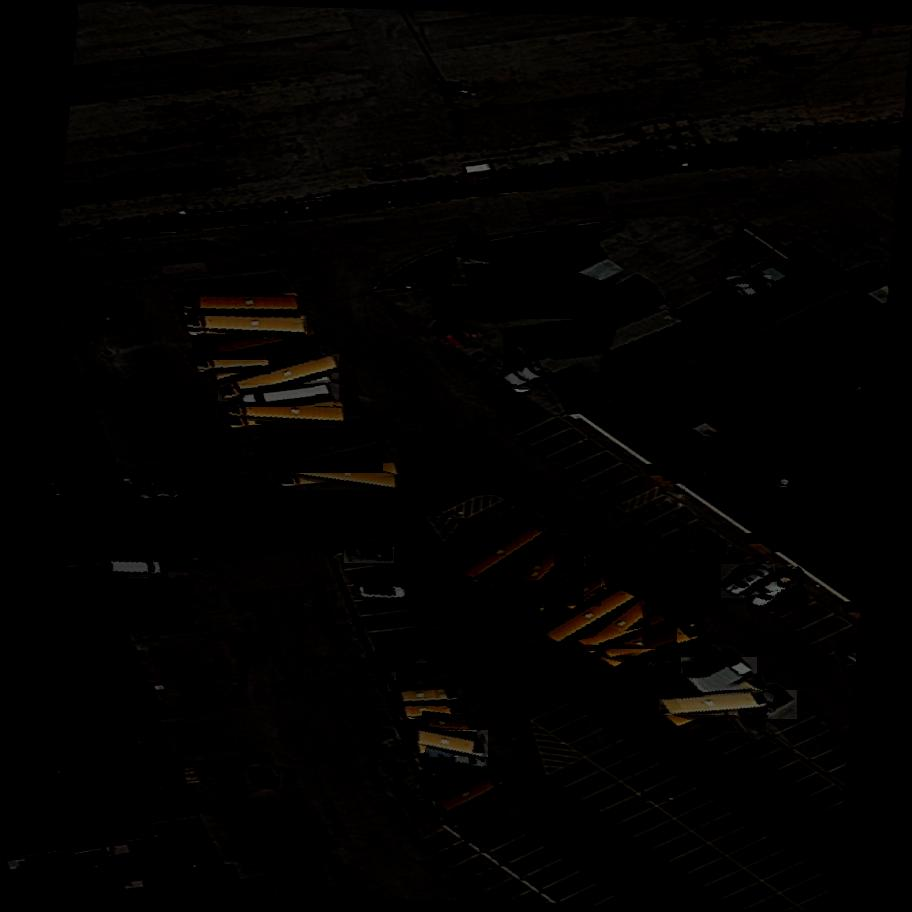large-vehicle: (503, 306, 685, 394), (433, 286, 629, 322), (497, 532, 584, 612), (458, 514, 555, 585), (545, 583, 644, 649), (84, 577, 194, 636), (218, 354, 339, 402), (573, 602, 677, 654), (260, 431, 383, 474), (199, 322, 319, 363), (530, 553, 602, 612), (681, 651, 758, 705), (598, 623, 700, 662), (434, 766, 509, 817), (279, 460, 400, 491), (659, 690, 769, 716), (396, 661, 461, 700), (227, 405, 347, 425), (241, 383, 334, 407), (187, 316, 307, 334), (415, 730, 490, 757), (180, 296, 301, 311), (194, 354, 271, 372), (402, 702, 465, 719), (423, 718, 482, 733), (399, 689, 462, 703)
small-vehicle: (747, 565, 805, 618), (720, 265, 775, 320), (746, 253, 803, 302), (382, 648, 446, 687), (722, 561, 776, 604), (462, 798, 510, 845), (742, 684, 797, 723), (377, 635, 442, 664), (424, 748, 491, 772), (139, 463, 186, 497), (677, 538, 727, 562), (106, 560, 167, 577), (355, 584, 410, 600), (343, 548, 395, 564), (135, 487, 184, 500)
